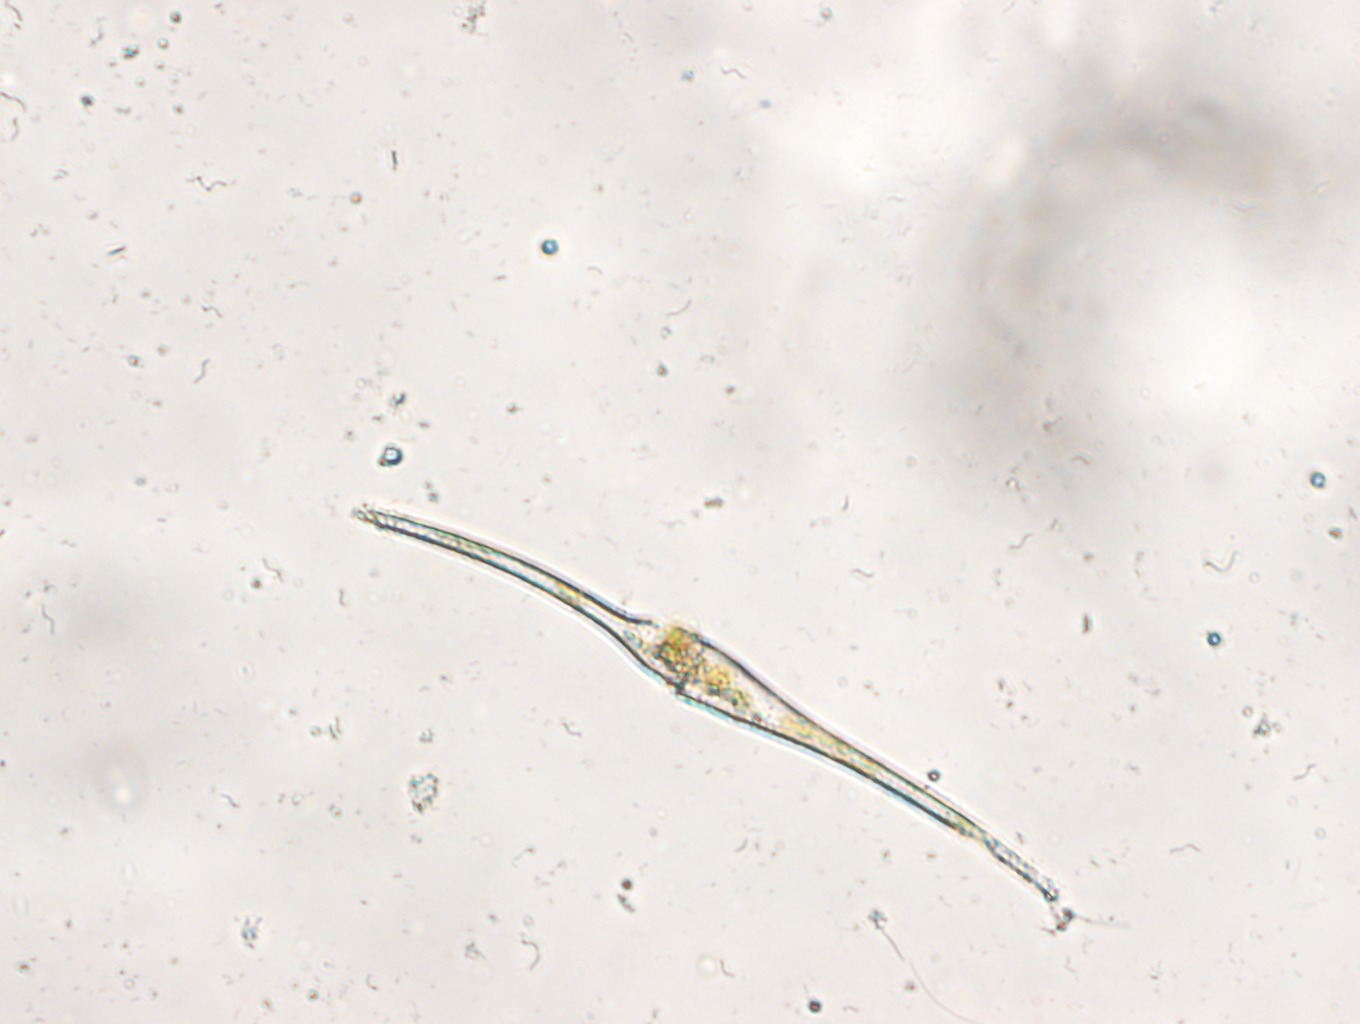ceratium fusus: (350, 500, 1062, 907)
